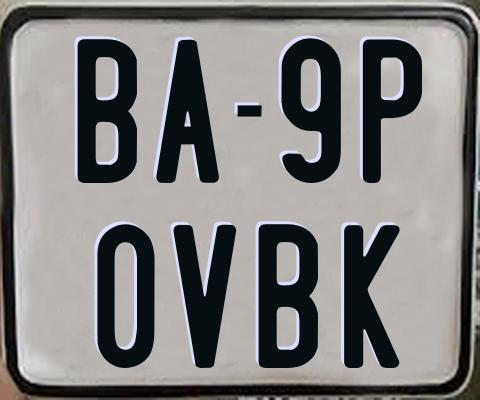0: (96, 222, 157, 371)
9: (281, 37, 345, 182)
A: (154, 40, 217, 188)
B: (258, 222, 323, 367), (78, 39, 140, 188)
K: (343, 222, 405, 369)
P: (363, 37, 423, 187)
V: (172, 225, 236, 370)
